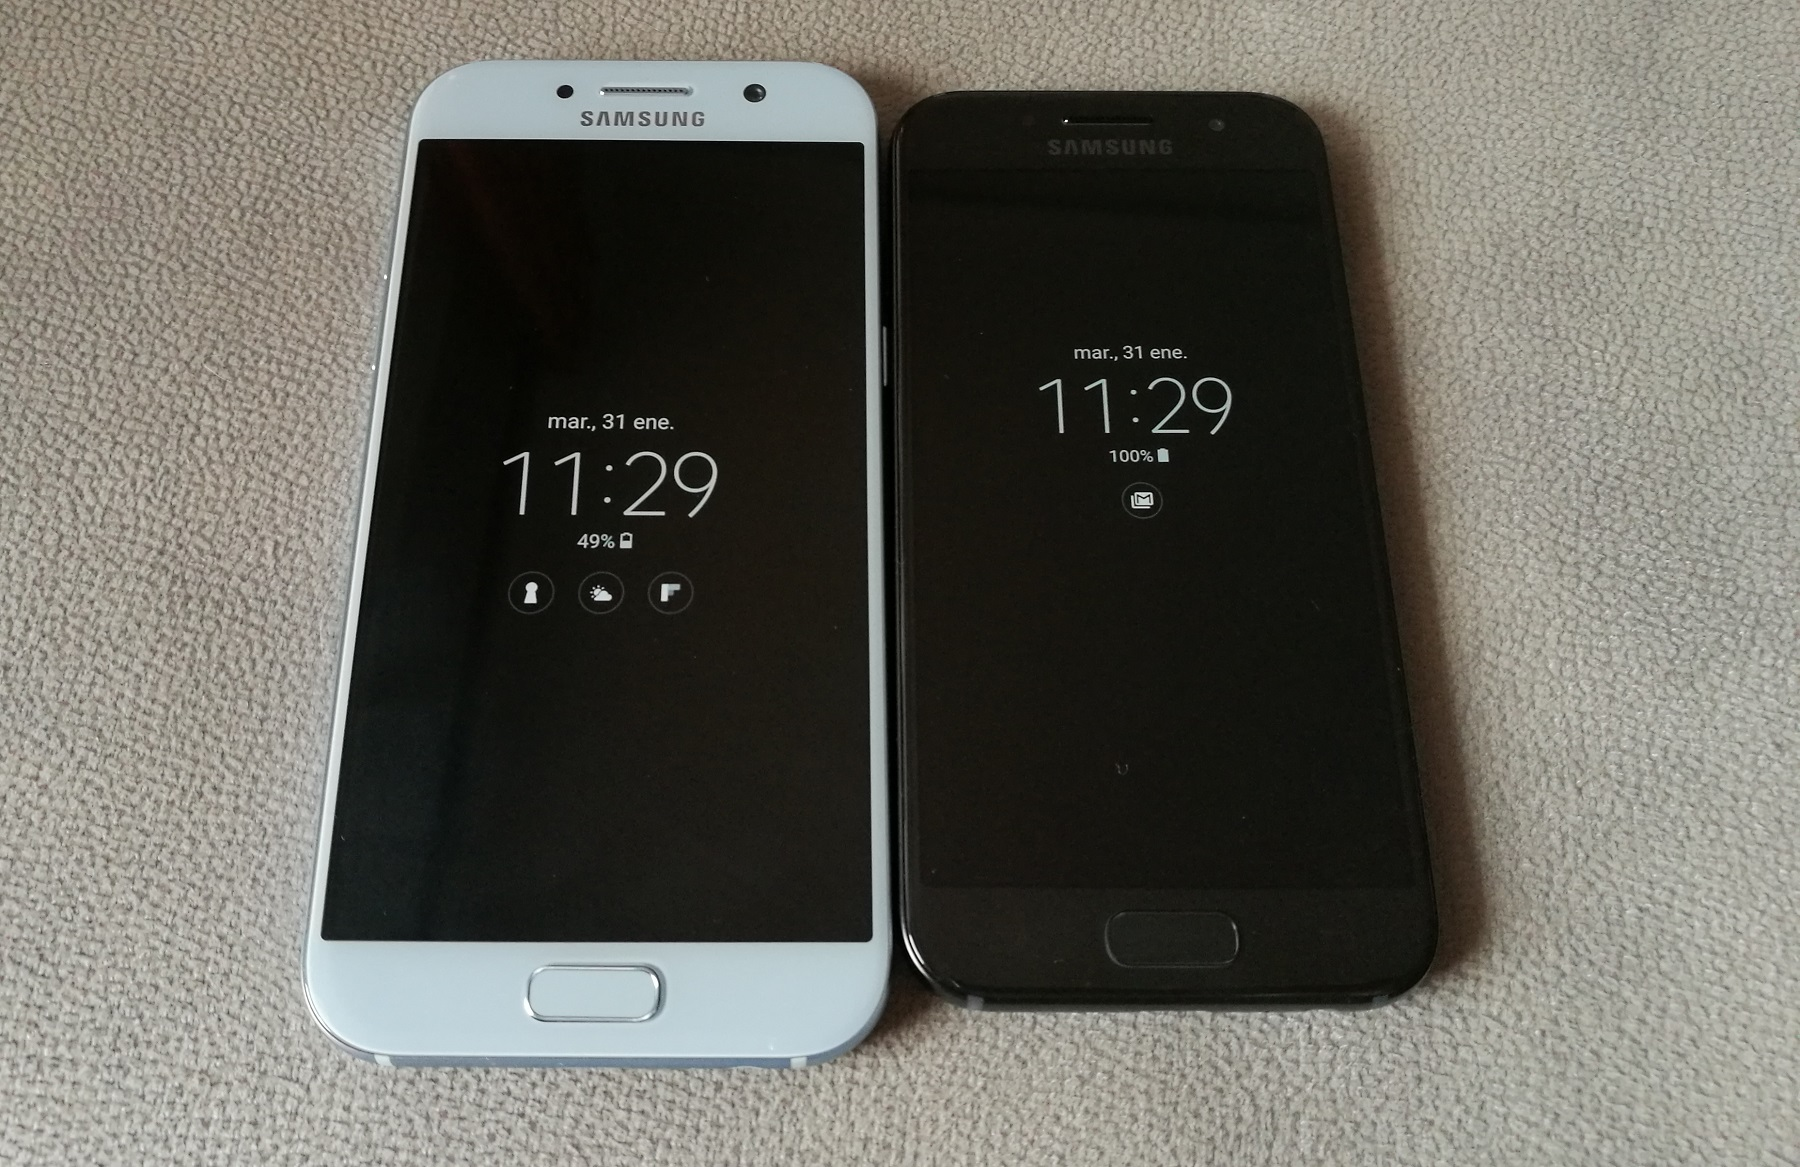smartphone: (299, 59, 895, 1069), (895, 89, 1441, 1012)
